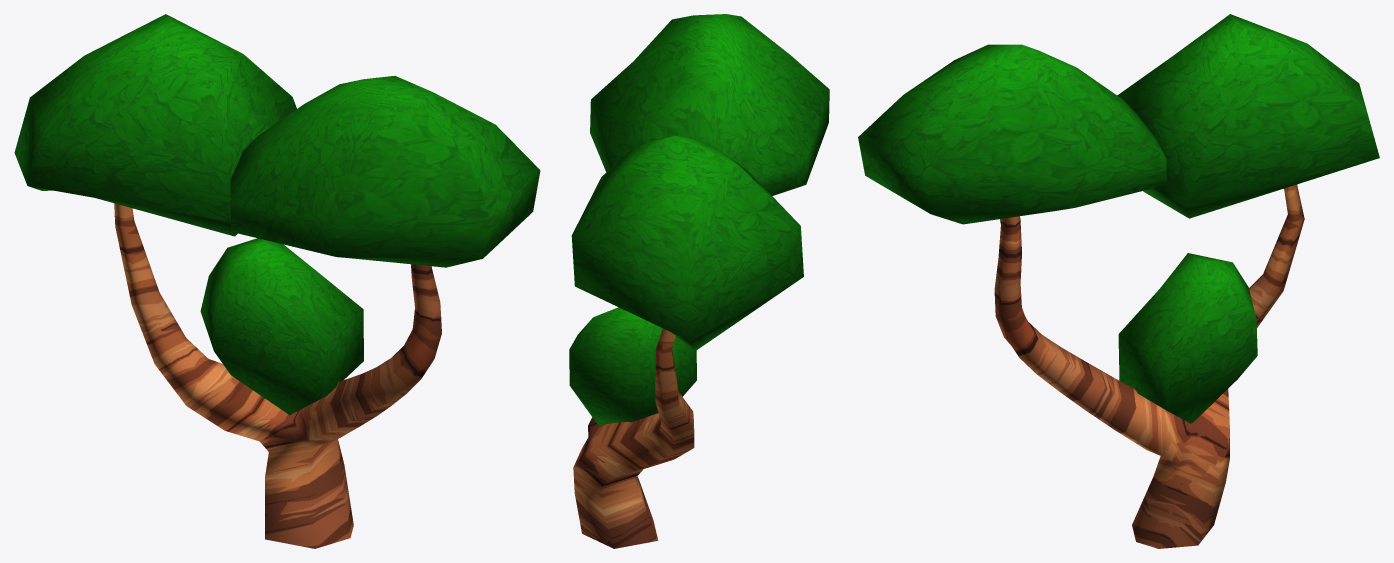
Rendered from tree 7.fbx.
3 renders of one model, left to right at view 1: azimuth 30°, elevation 25°; view 2: azimuth 150°, elevation 25°; view 3: azimuth 270°, elevation 25°, orthographic. The views are drawn at different scales.
Visible parts, largest first — view 1: tree_7; view 2: tree_7; view 3: tree_7.
Boxes of the visible parts, x1,y1,x2,y2 form: tree_7: [14, 14, 540, 548]; tree_7: [569, 14, 829, 548]; tree_7: [858, 14, 1379, 548].
Size of the model in its own units: 50.9 by 73.39 by 73.04.
